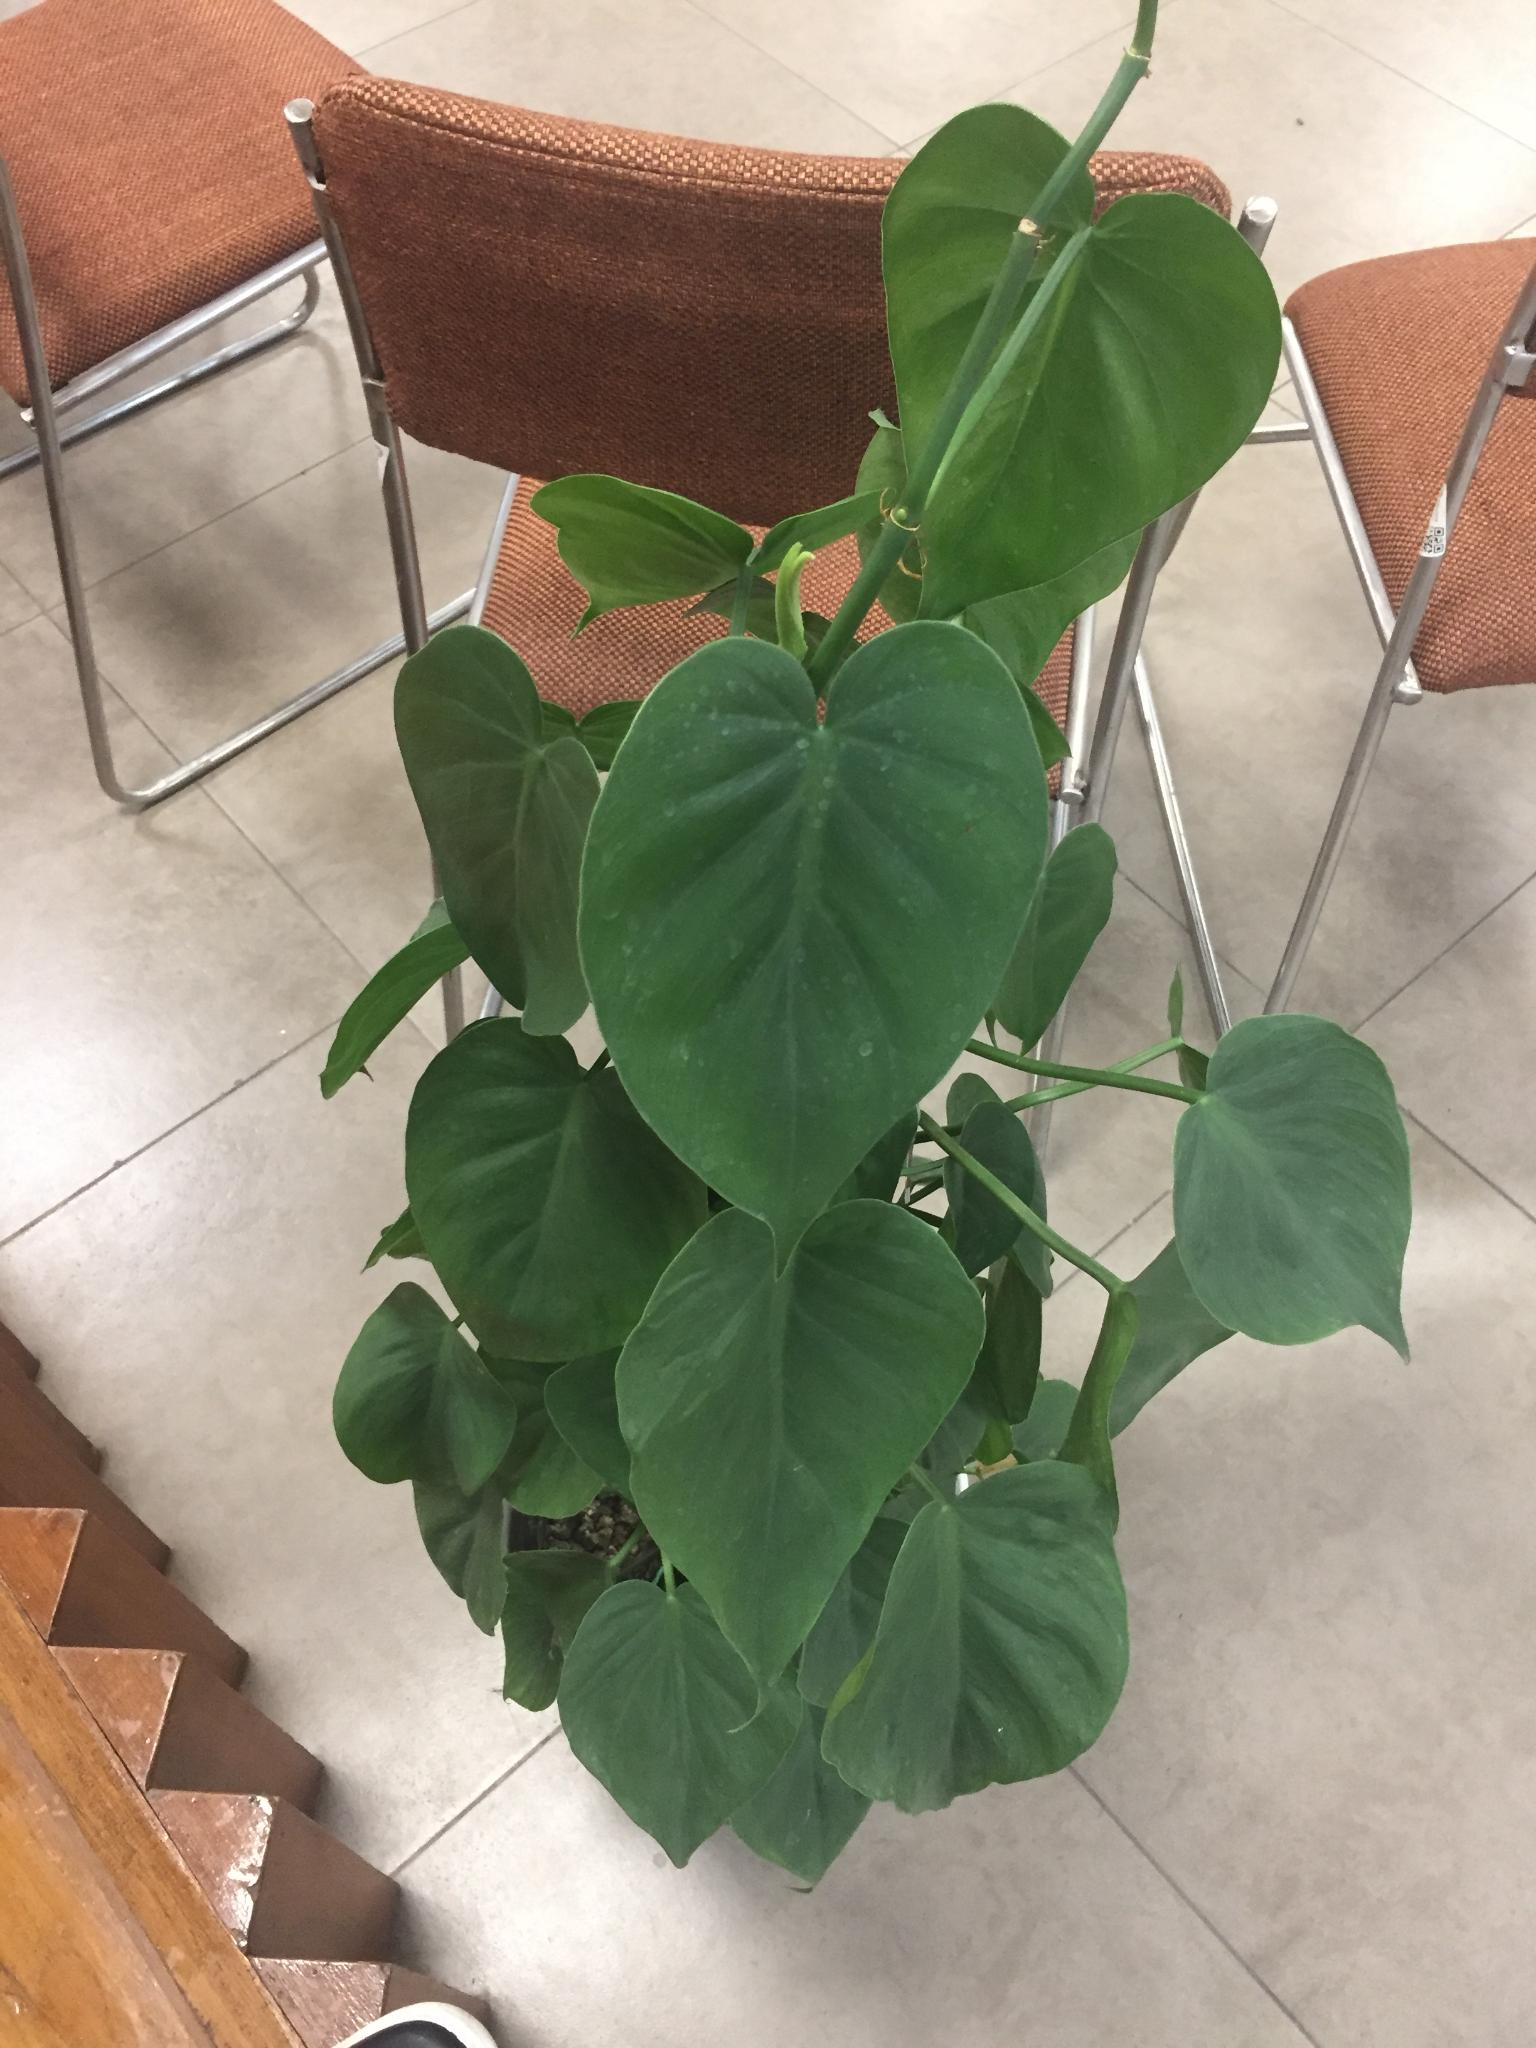chair: (281, 71, 1249, 1142), (2, 0, 449, 811), (1281, 132, 1536, 1058)
